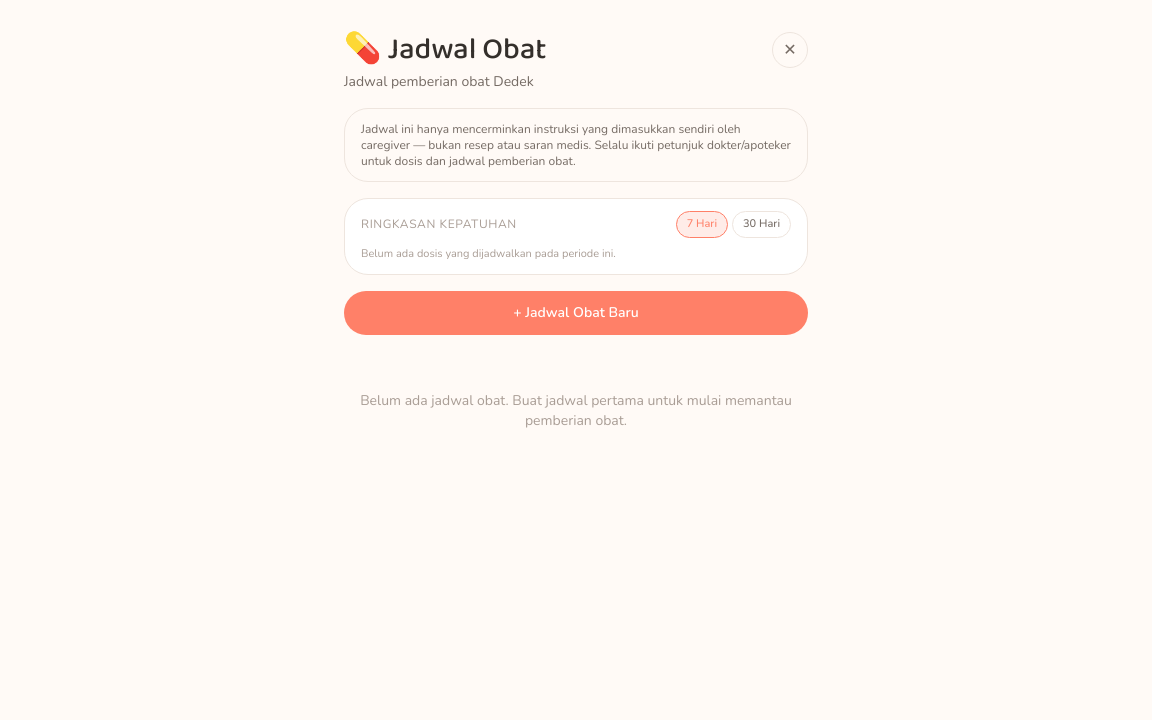
MedicationScheduleScreen — schedule form validation › shows the server validation error message on a failed submit
The width and height of the screenshot is (1152, 720).
Click the button "+ Jadwal Obat Baru". click: (576, 313)
box: [344, 291, 808, 335]
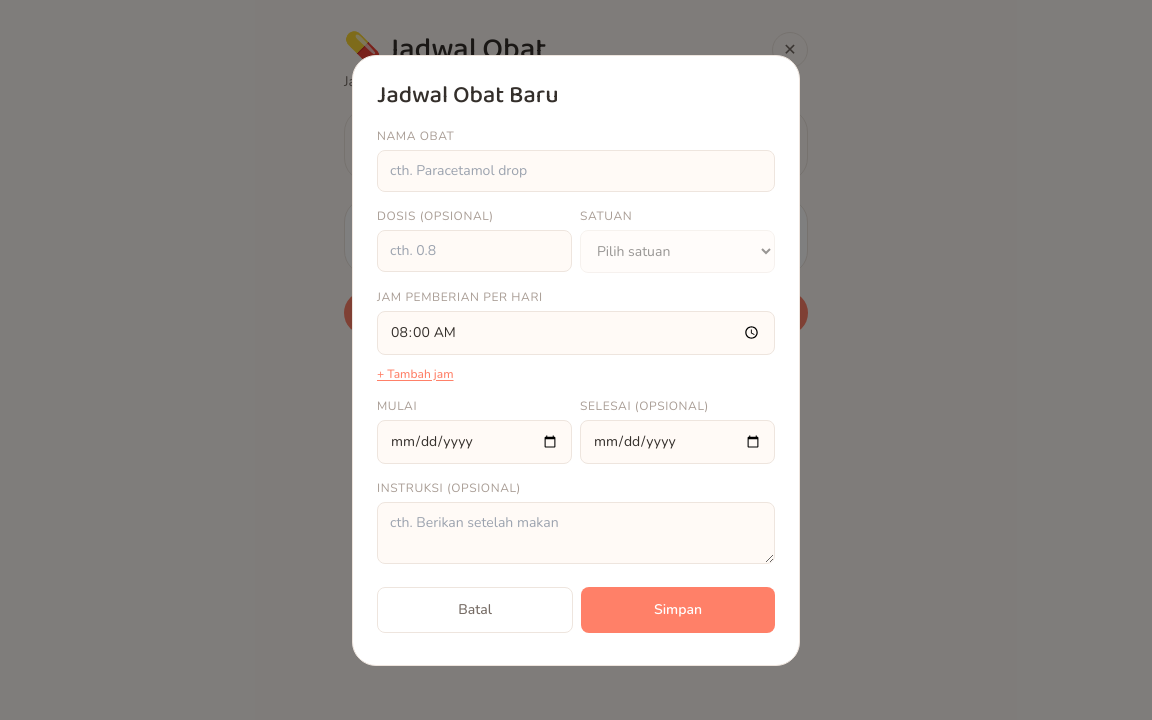
Type "x" into the field labelled "Nama Obat". click: (576, 170)
box: [377, 150, 775, 192]
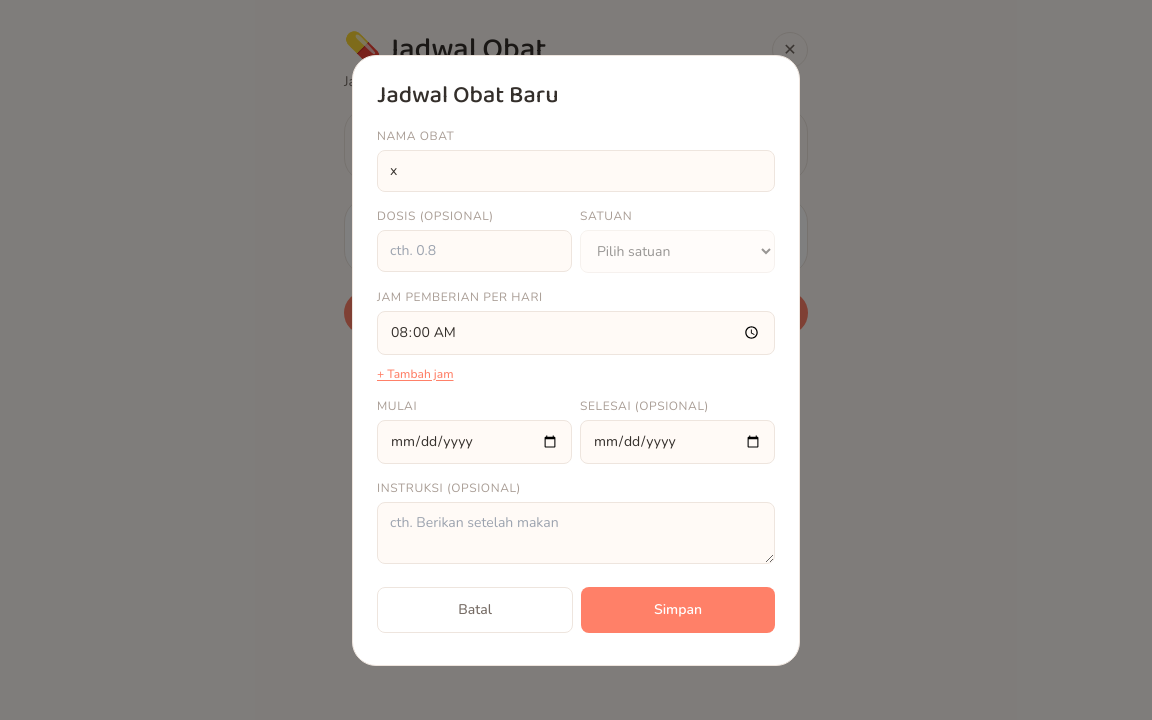
Type "2026-08-23" into the date field labelled "Mulai". click: (474, 442)
box: [377, 420, 572, 464]
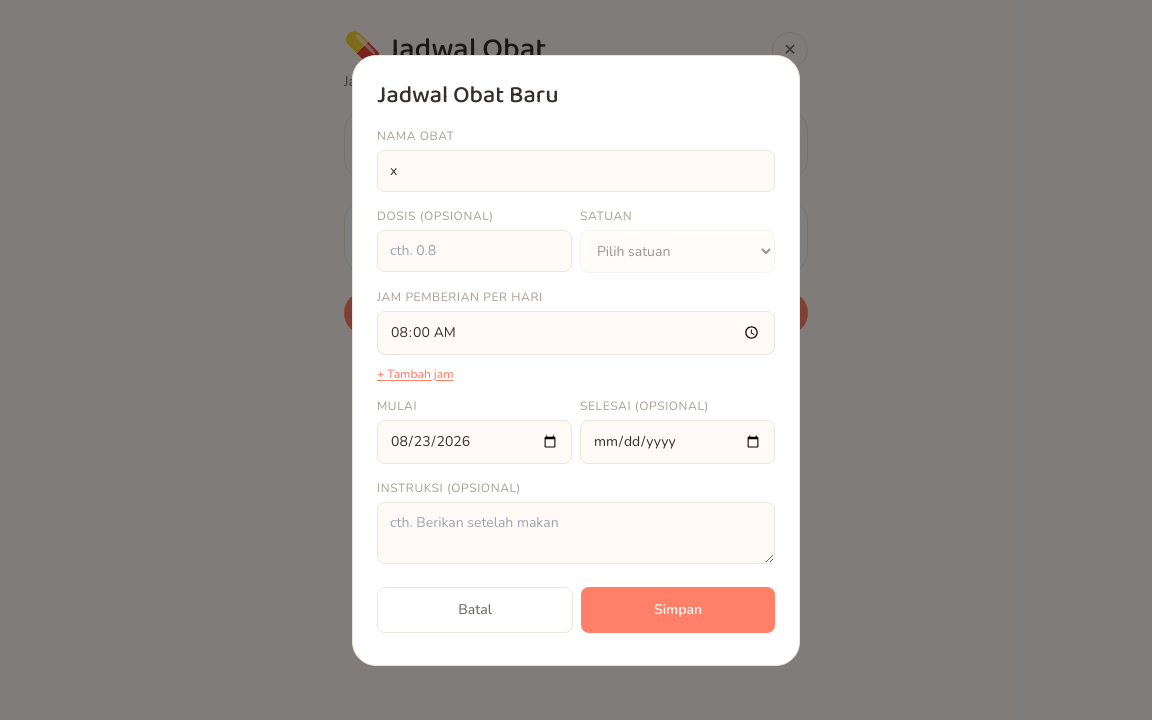
Click the button "Simpan". click: (678, 610)
box: [581, 586, 775, 632]
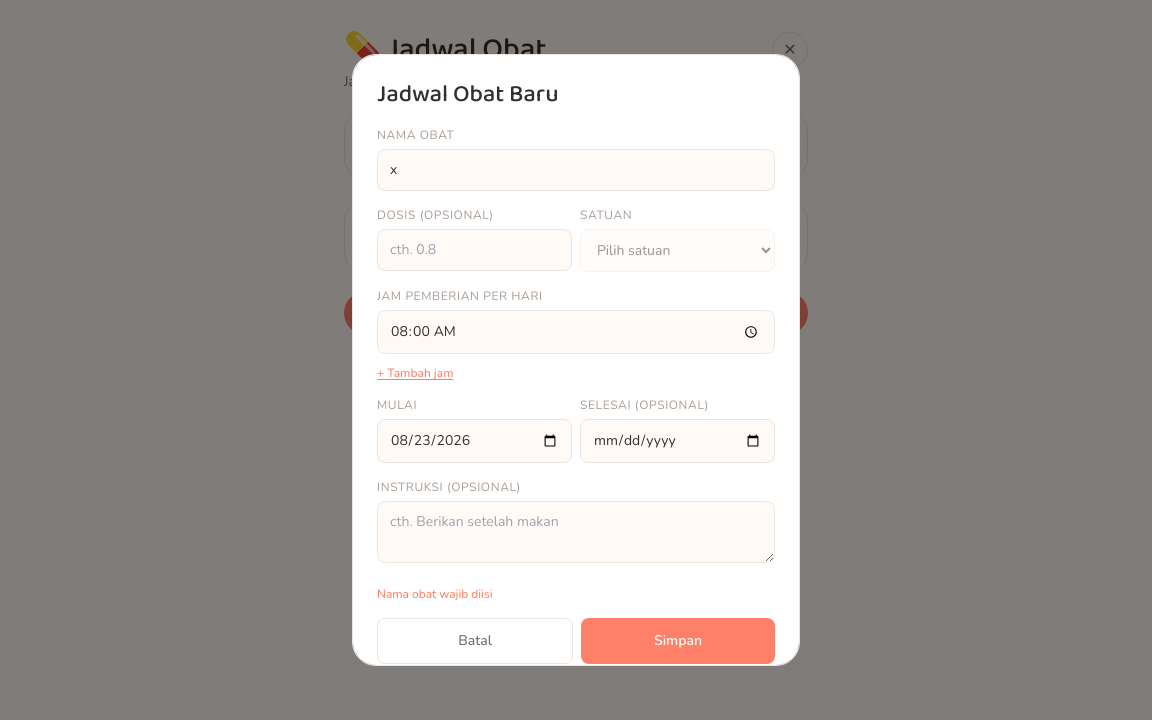
Expected: the text "Nama obat wajib diisi" is shown, [377, 586, 492, 602]
